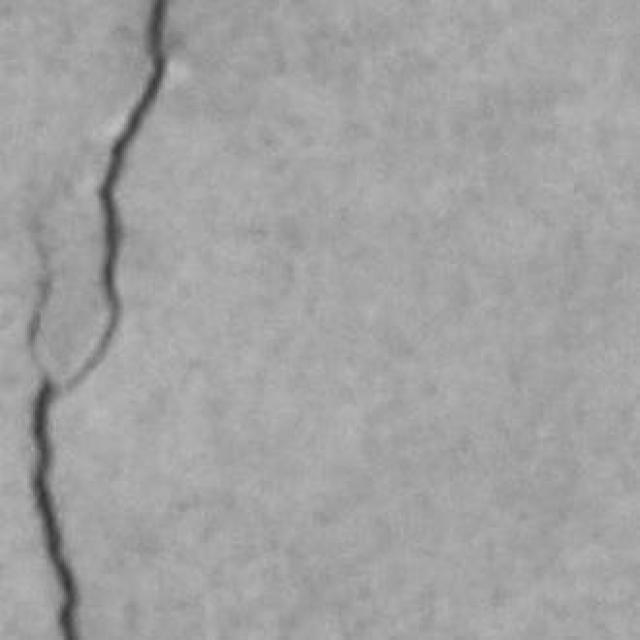crack: (32, 0, 168, 639), (66, 0, 168, 387), (32, 377, 79, 639)
